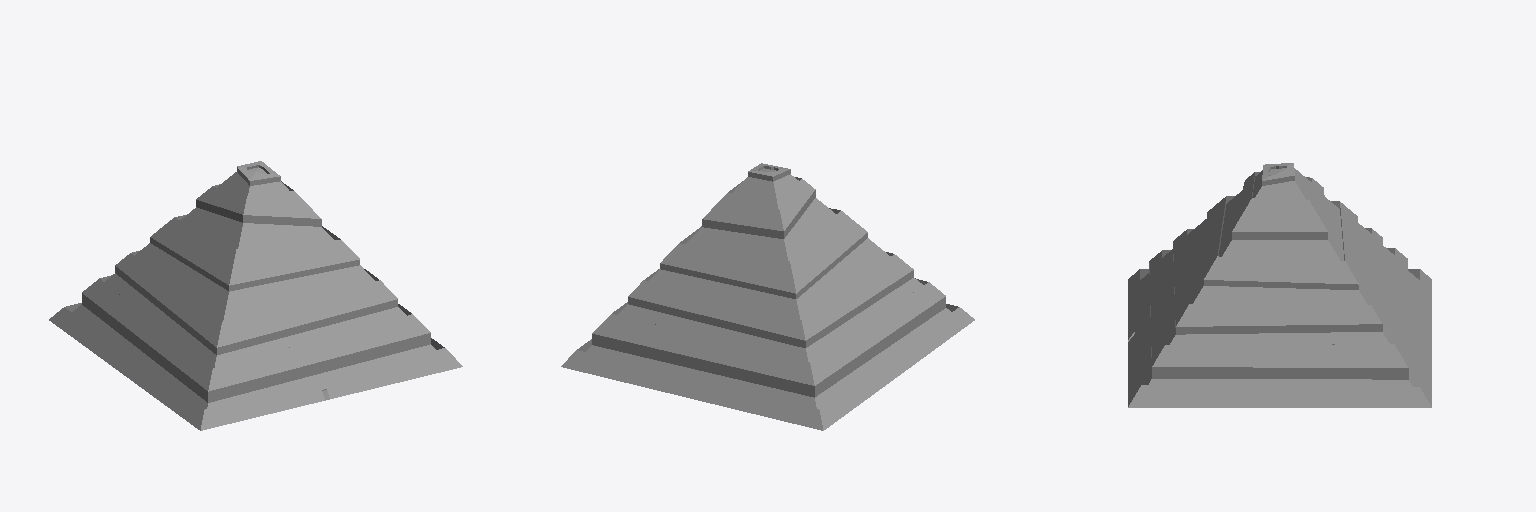
The model's file is structure3withOpening.obj.
The picture shows the model from 3 angles: view 1: azimuth 30°, elevation 25°; view 2: azimuth 150°, elevation 25°; view 3: azimuth 270°, elevation 25°; orthographic projection.
Visible parts, largest first — view 1: Cube; view 2: Cube; view 3: Cube.
Boxes of the visible parts, x1=… form: Cube: x1=49, y1=161, x2=462, y2=430; Cube: x1=561, y1=163, x2=974, y2=430; Cube: x1=1128, y1=163, x2=1431, y2=407.
Bounding box in the file's own units: 10 × 6.35 × 10.